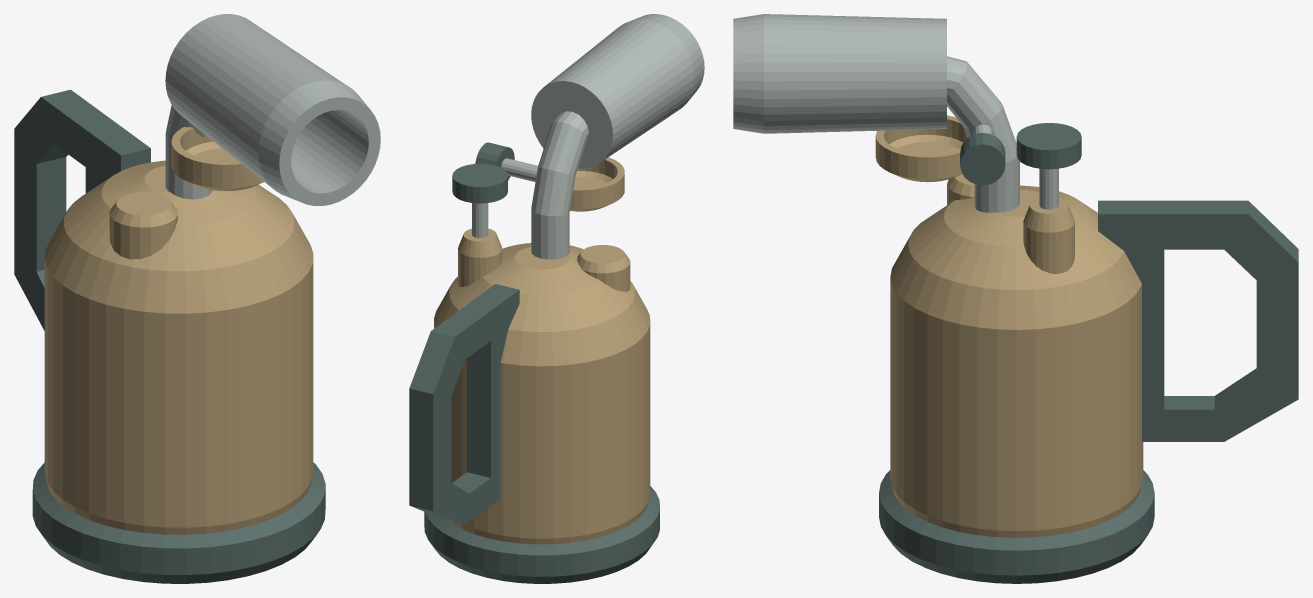
3 renders of one model, left to right at view 1: azimuth 30°, elevation 25°; view 2: azimuth 150°, elevation 25°; view 3: azimuth 270°, elevation 25°, orthographic. The views are drawn at different scales.
Parts seen in each view (by area): view 1: WholeClosedDomedReservoir, WholeForwardOpenHood, WholeBroadFlatFoot, WholeOpenDCarryingHandle, WholeClosedFillCap, WholeShallowUnderHoodCup, WholeBentSupportingNeck; view 2: WholeClosedDomedReservoir, WholeOpenDCarryingHandle, WholeForwardOpenHood, WholeBroadFlatFoot, WholeBentSupportingNeck, WholeShallowUnderHoodCup, WholePumpThumbCap, WholeOffsetTopPumpCollar, WholeClosedFillCap, WholeBlankSideControlKnob, WholeShortSideControlStem, WholeFixedPumpPlunger; view 3: WholeClosedDomedReservoir, WholeOpenDCarryingHandle, WholeForwardOpenHood, WholeBroadFlatFoot, WholeBentSupportingNeck, WholeShallowUnderHoodCup, WholeOffsetTopPumpCollar, WholePumpThumbCap, WholeBlankSideControlKnob, WholeFixedPumpPlunger.
Part boxes in pixels (box(x1,y1,x2,y2)): WholeClosedDomedReservoir: box(44, 160, 313, 534); WholeForwardOpenHood: box(165, 14, 380, 205); WholeBroadFlatFoot: box(32, 462, 325, 583); WholeOpenDCarryingHandle: box(14, 89, 150, 330); WholeClosedFillCap: box(109, 192, 177, 259); WholeShallowUnderHoodCup: box(171, 126, 263, 191); WholeBentSupportingNeck: box(165, 105, 212, 199); WholeClosedDomedReservoir: box(434, 243, 650, 544); WholeOpenDCarryingHandle: box(409, 284, 519, 524); WholeForwardOpenHood: box(531, 14, 704, 168); WholeBroadFlatFoot: box(424, 486, 659, 583); WholeBentSupportingNeck: box(531, 111, 588, 259); WholeShallowUnderHoodCup: box(570, 157, 624, 211); WholePumpThumbCap: box(452, 163, 507, 203); WholeOffsetTopPumpCollar: box(458, 228, 502, 286); WholeClosedFillCap: box(577, 245, 630, 291); WholeBlankSideControlKnob: box(475, 142, 514, 180); WholeShortSideControlStem: box(501, 158, 537, 181); WholeFixedPumpPlunger: box(472, 203, 488, 237); WholeClosedDomedReservoir: box(890, 185, 1143, 537); WholeOpenDCarryingHandle: box(1098, 200, 1298, 441); WholeForwardOpenHood: box(733, 14, 946, 133); WholeBroadFlatFoot: box(879, 470, 1154, 583); WholeBentSupportingNeck: box(947, 56, 1019, 212); WholeShallowUnderHoodCup: box(875, 115, 967, 182); WholeOffsetTopPumpCollar: box(1023, 198, 1074, 273); WholePumpThumbCap: box(1016, 123, 1081, 169); WholeBlankSideControlKnob: box(960, 132, 1005, 185); WholeFixedPumpPlunger: box(1039, 168, 1058, 209).
Bounding box in the file's own units: 0.17 × 0.347 × 0.349.
